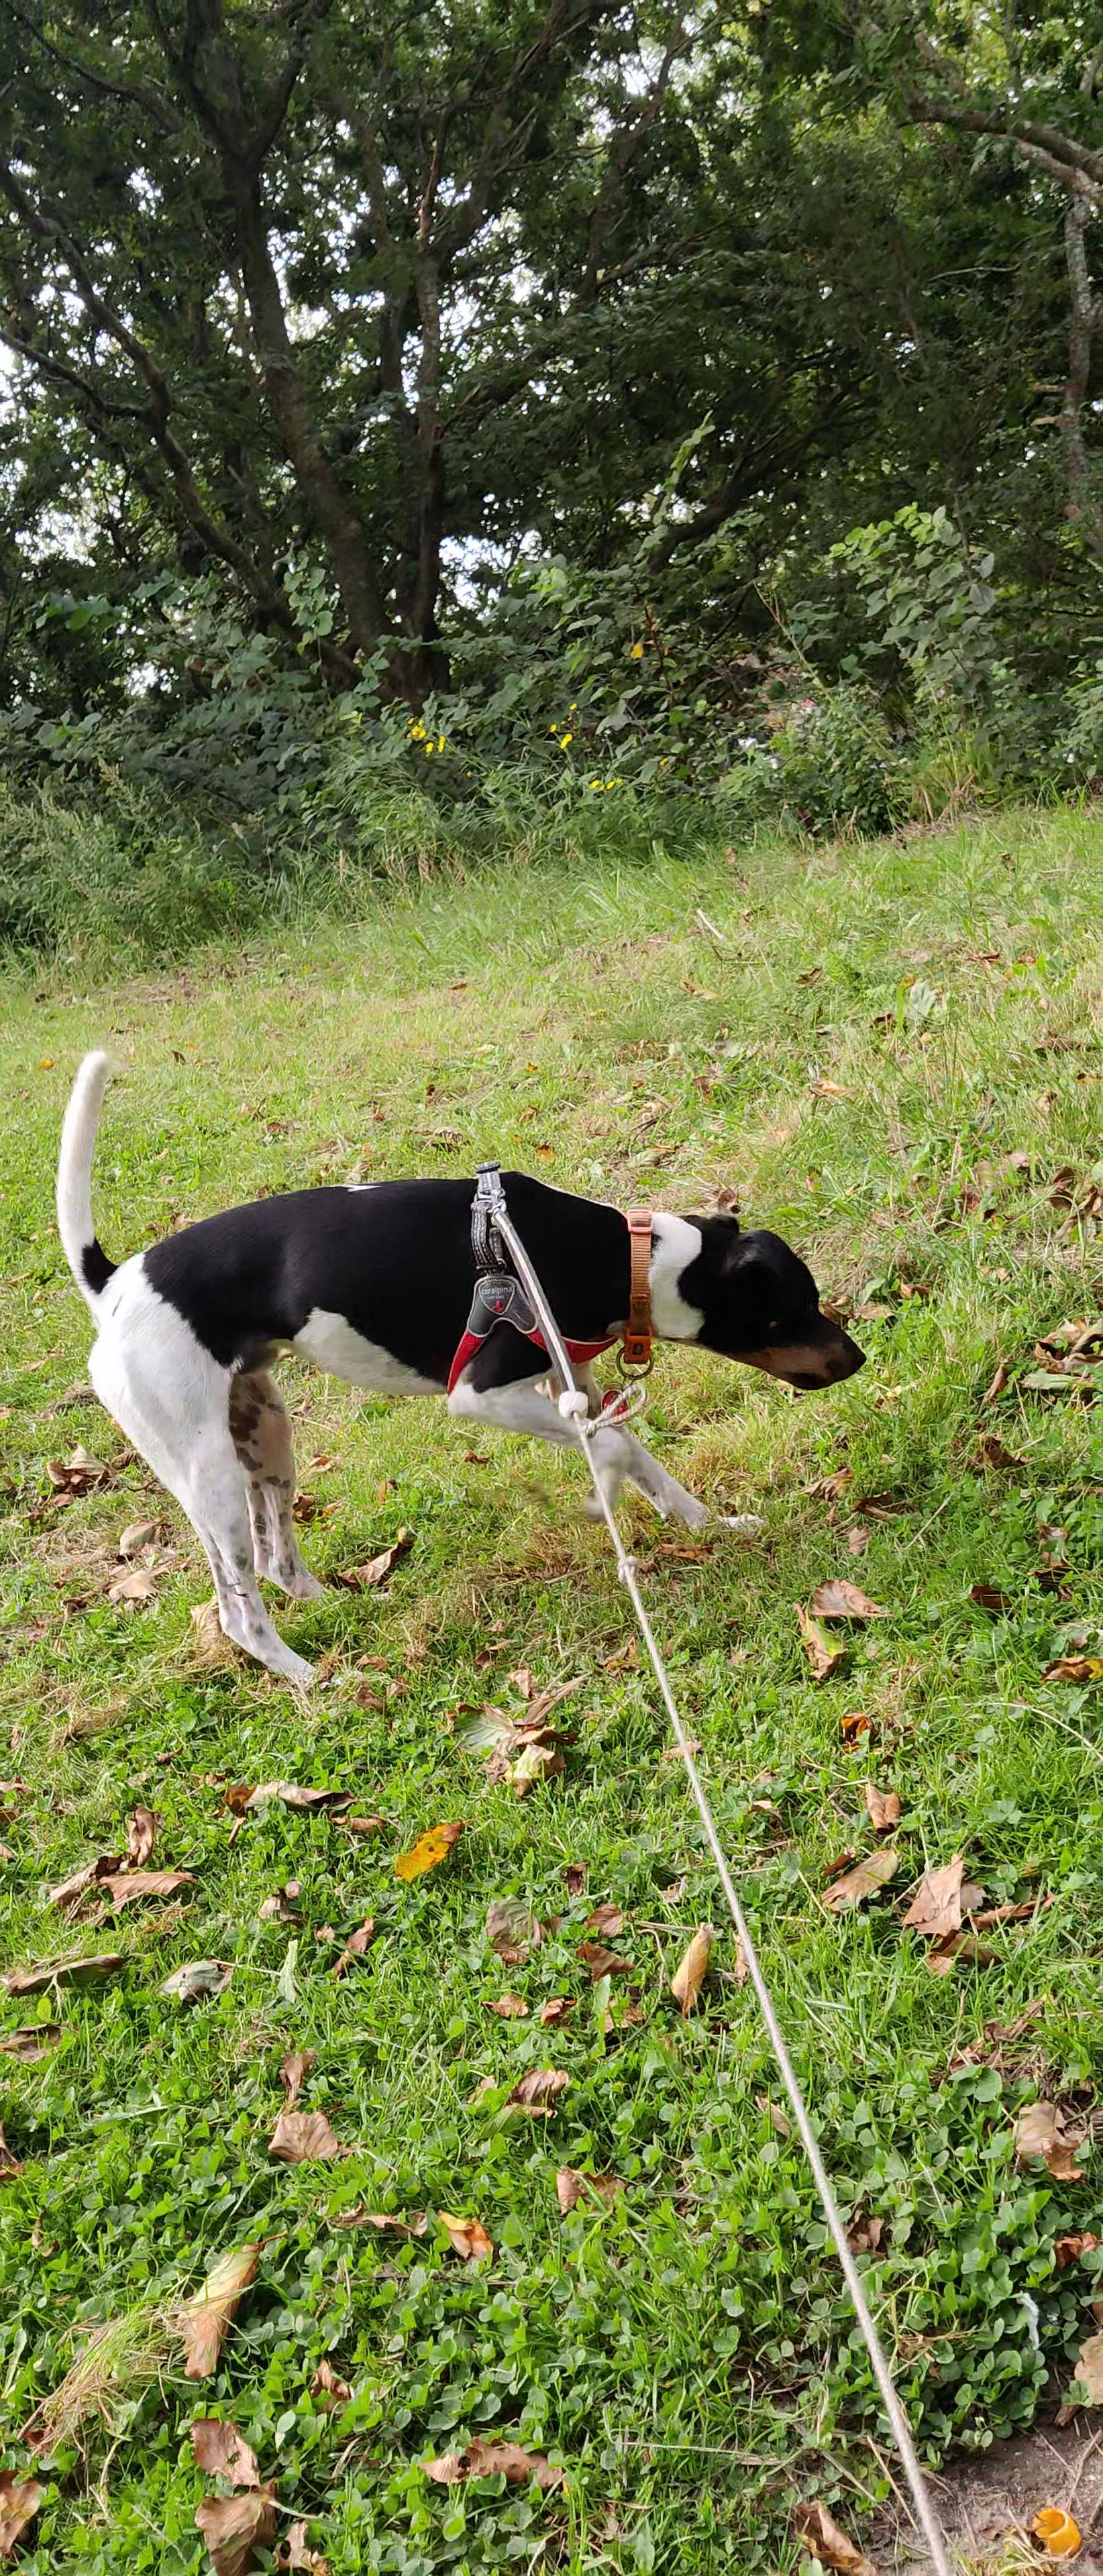Dog: (48, 1032, 866, 1687)
